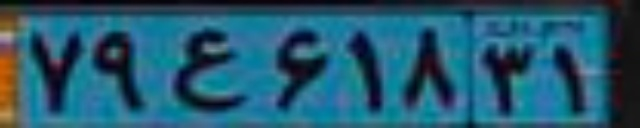1: (546, 41, 590, 114), (347, 30, 381, 111)
3: (478, 40, 538, 115)
6: (271, 28, 332, 110)
7: (28, 28, 82, 113)
8: (395, 26, 459, 111)
9: (91, 29, 147, 108)
ain: (171, 27, 247, 111)
